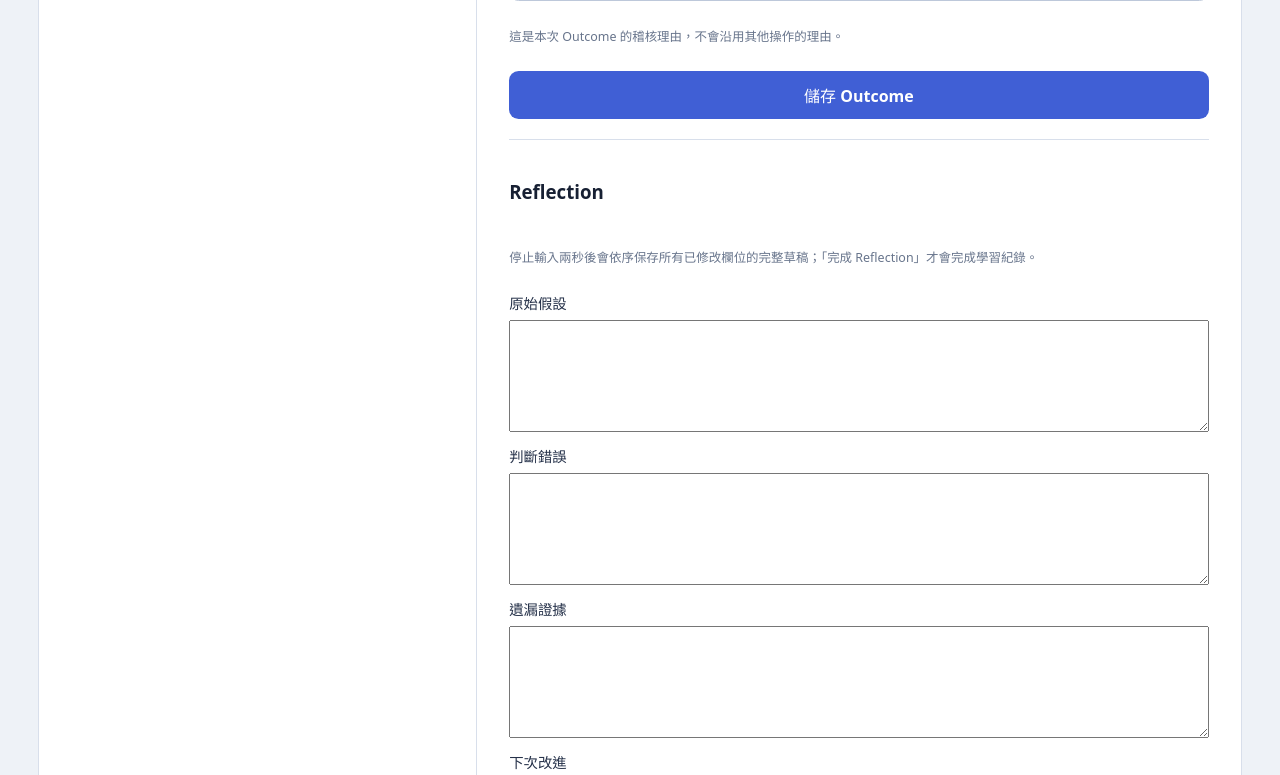
Test: ThesisRoutes › keeps a newer same-field edit queued while an older autosave is in flight
This screenshot has width=1280, height=775.
(page scrolled)
Type "A" into the text box labelled "原始假設" at coordinates (859, 376), box [509,320,1209,432]
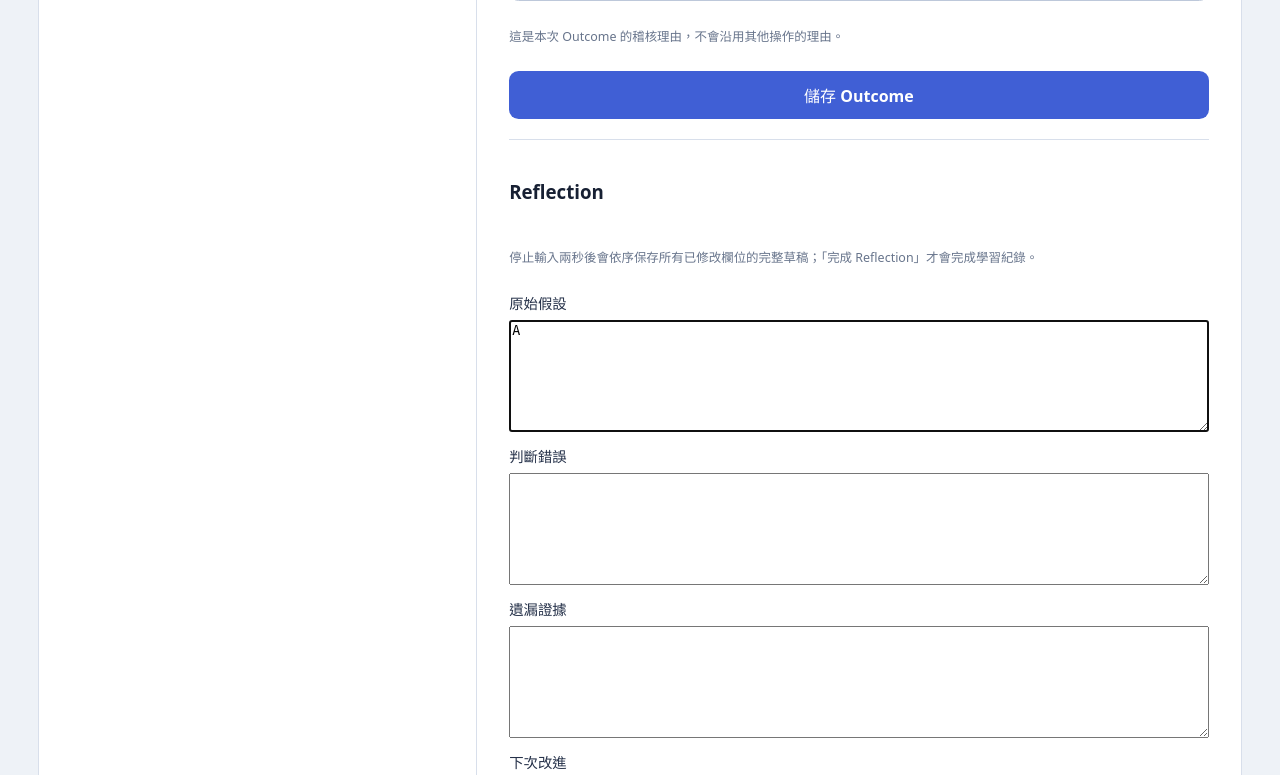
Type "B" into the text box labelled "原始假設" at coordinates (859, 376), box [509,320,1209,432]
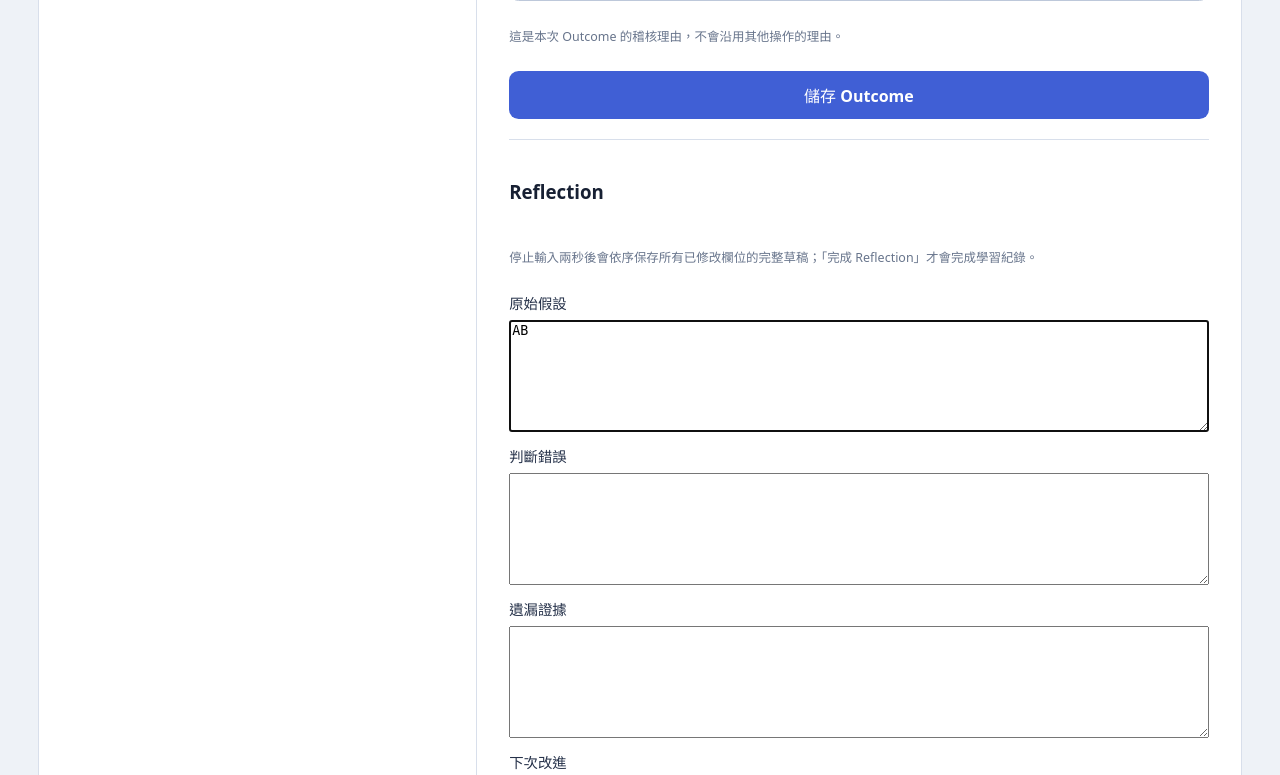
Now the text box labelled "原始假設" holds "AB", box [509,320,1209,432]
